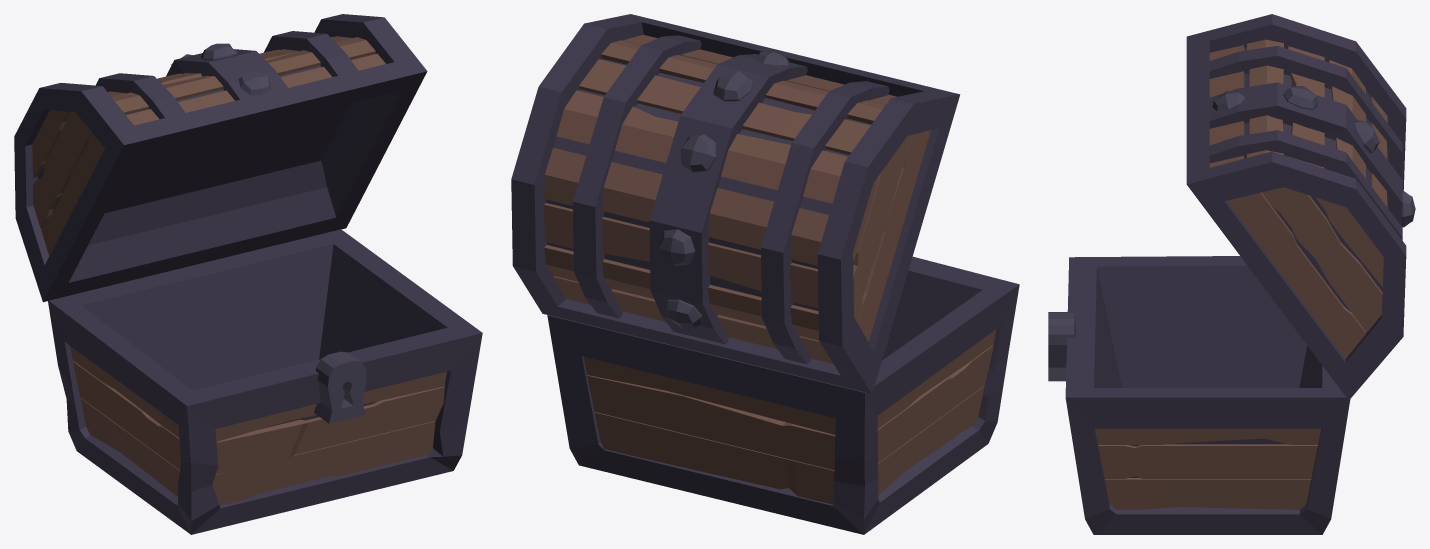
The model's file is chest.glb.
The picture shows the model from 3 angles, left to right: view 1: azimuth 30°, elevation 25°; view 2: azimuth 150°, elevation 25°; view 3: azimuth 270°, elevation 25°; orthographic projection. The views are drawn at different scales.
Parts seen in each view (by area): view 1: Chest_Open; view 2: Chest_Open; view 3: Chest_Open.
Part boxes in pixels (<box>): Chest_Open: <box>14,14,482,534</box>; Chest_Open: <box>511,14,1019,534</box>; Chest_Open: <box>1048,14,1415,534</box>.
Bounding box in the file's own units: 94.96 × 115 × 99.62.
